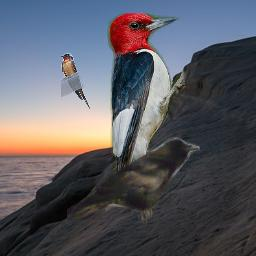Crow: (67, 137, 200, 220)
Swallow: (61, 53, 90, 109)
Woodpecker: (104, 13, 192, 226)
